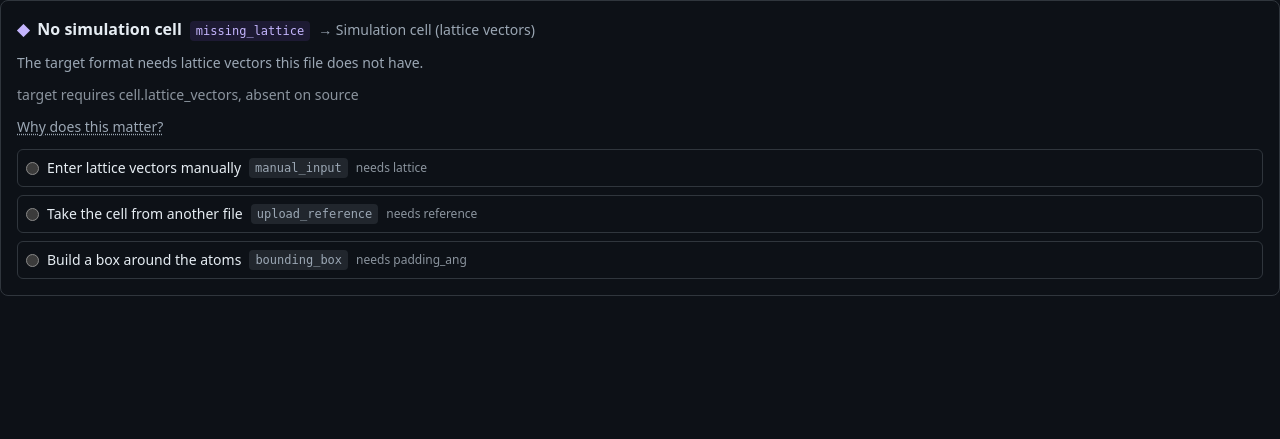
Scenario: DecisionCard › renders a 3×3 grid for a lattice choice
Click the radio button labelled "Enter lattice vectors manually manual_input": [32, 168] box top-left (26, 162), bottom-right (39, 174)
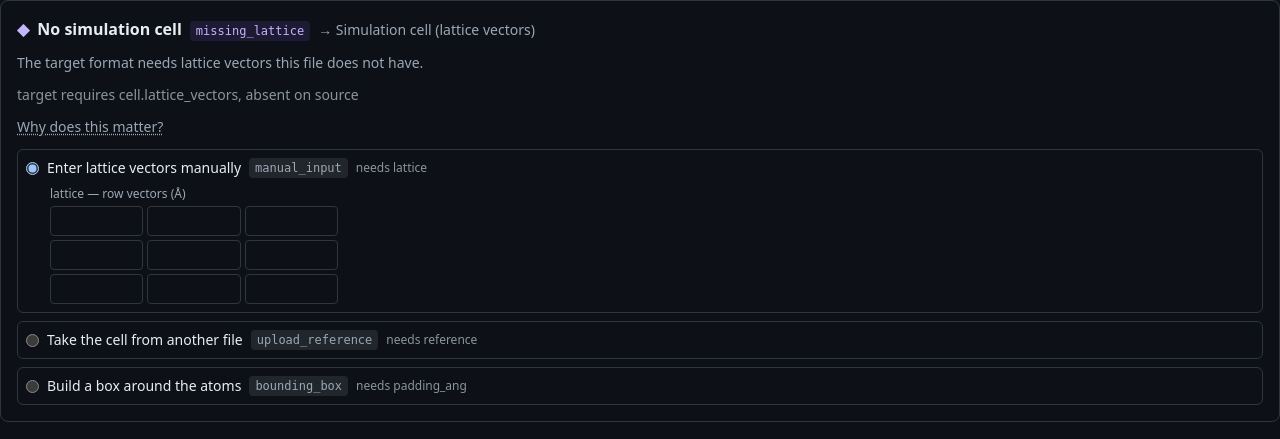
Expected: the number of number fields with test id "lattice-cell" is 9
